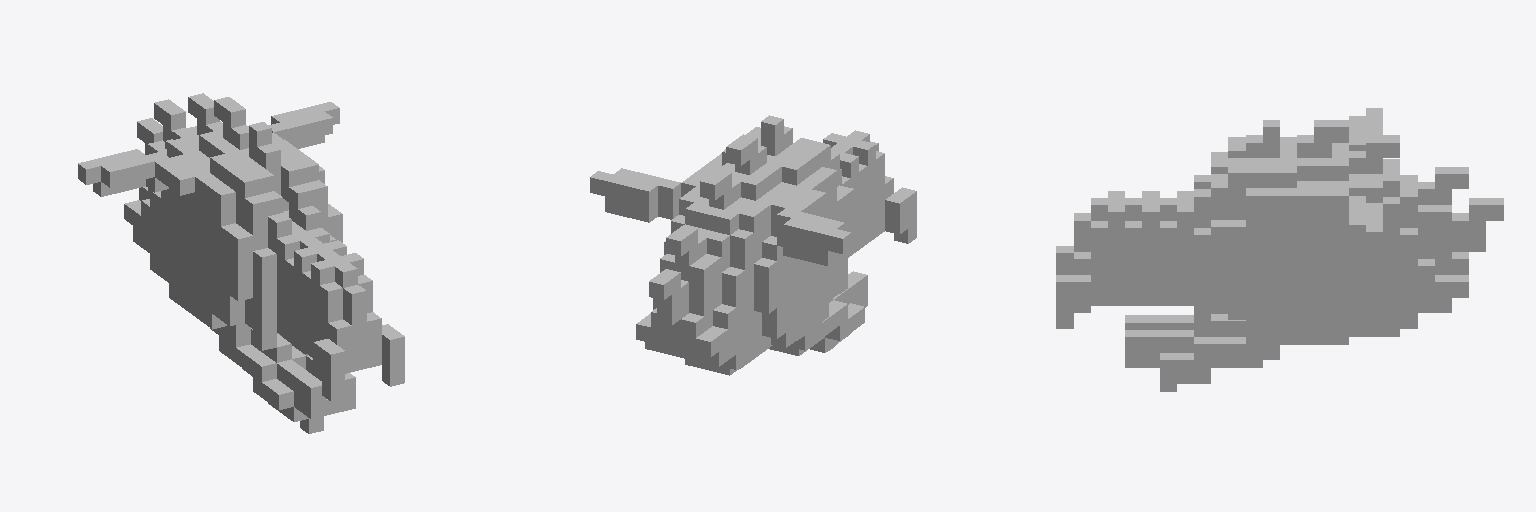
Rendered from LizardMan BOSS head.obj.
3 views of the same model, side by side, from view 1: azimuth 30°, elevation 25°; view 2: azimuth 150°, elevation 25°; view 3: azimuth 270°, elevation 25° (orthographic).
Bounding box in the file's own units: 17 × 17 × 26.